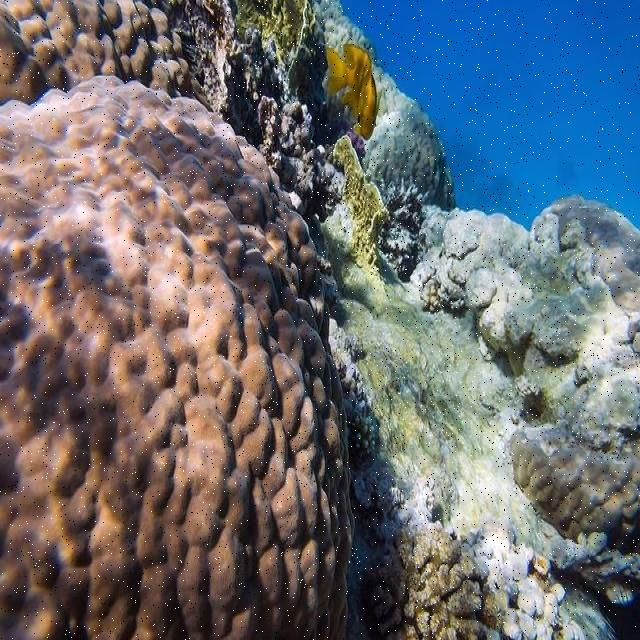fish: (322, 44, 382, 142)
reefs: (0, 76, 355, 639), (303, 197, 639, 639), (157, 0, 365, 221), (308, 1, 457, 281), (510, 430, 639, 638), (0, 0, 212, 110), (359, 520, 509, 639), (540, 194, 639, 352), (333, 136, 388, 281), (230, 0, 316, 90)
